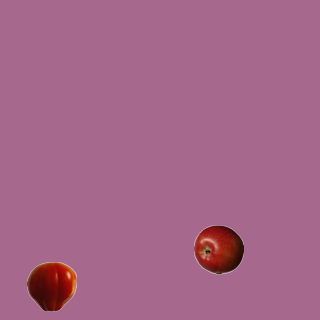Apple Braeburn: (193, 224, 243, 274)
Tomato 1: (26, 261, 76, 311)
